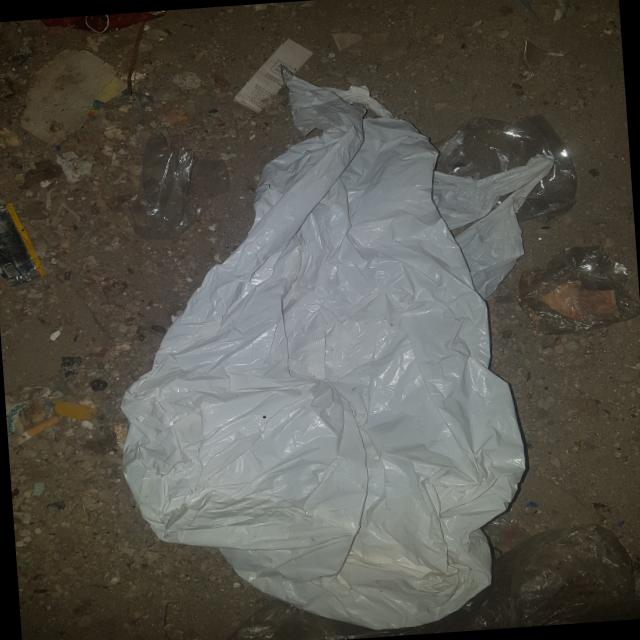electronic: (228, 34, 318, 114), (0, 199, 47, 286)
general: (93, 52, 600, 640)
